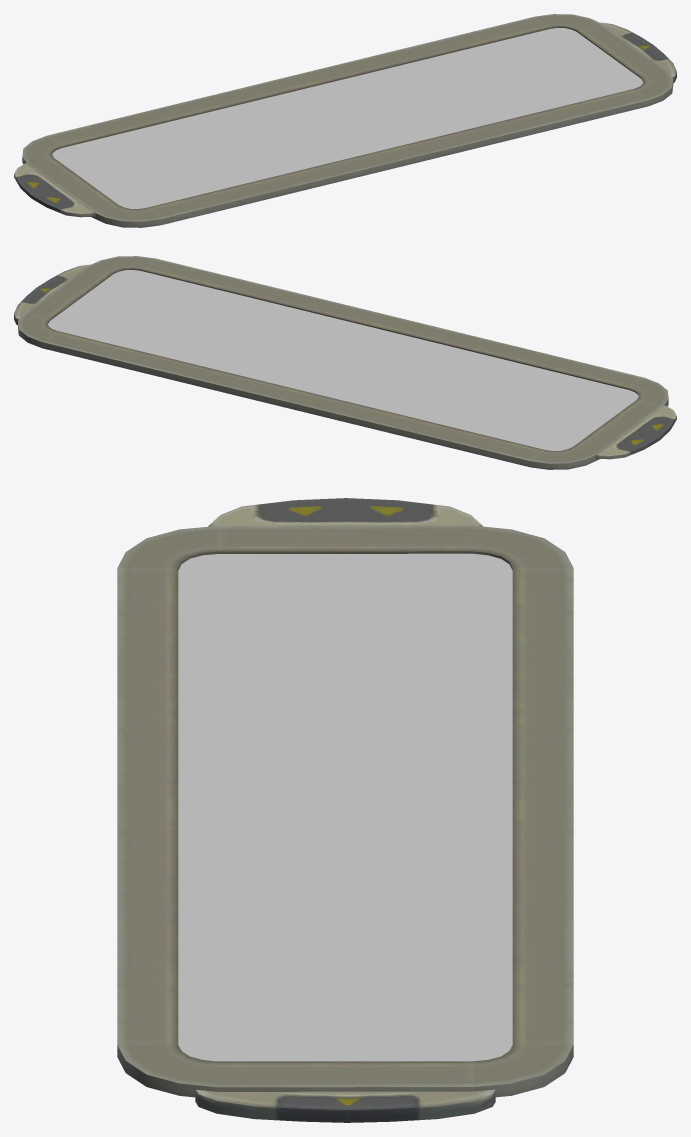
The model's file is pref_sm_garden_line10_lv2.fbx.
3 renders of one model, top to bottom at view 1: azimuth 30°, elevation 25°; view 2: azimuth 150°, elevation 25°; view 3: azimuth 270°, elevation 25°, orthographic. The views are drawn at different scales.
Parts seen in each view (by area): view 1: sm_garden_line10a_lv2, sm_garden_line10_lv2; view 2: sm_garden_line10a_lv2, sm_garden_line10_lv2; view 3: sm_garden_line10a_lv2, sm_garden_line10_lv2.
Part boxes in pixels (x1=…): sm_garden_line10a_lv2: x1=52, y1=28, x2=642, y2=208; sm_garden_line10_lv2: x1=14, y1=14, x2=676, y2=227; sm_garden_line10a_lv2: x1=48, y1=270, x2=638, y2=450; sm_garden_line10_lv2: x1=14, y1=256, x2=676, y2=469; sm_garden_line10a_lv2: x1=178, y1=553, x2=512, y2=1061; sm_garden_line10_lv2: x1=117, y1=498, x2=573, y2=1122.
Size of the model in its own units: 12.55 by 0.1674 by 3.98.
